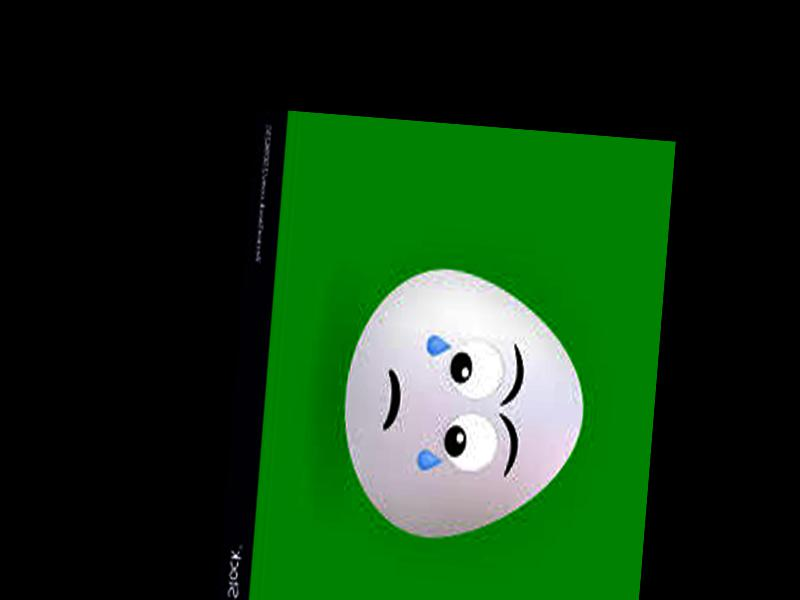Eggs: (334, 263, 591, 551)
